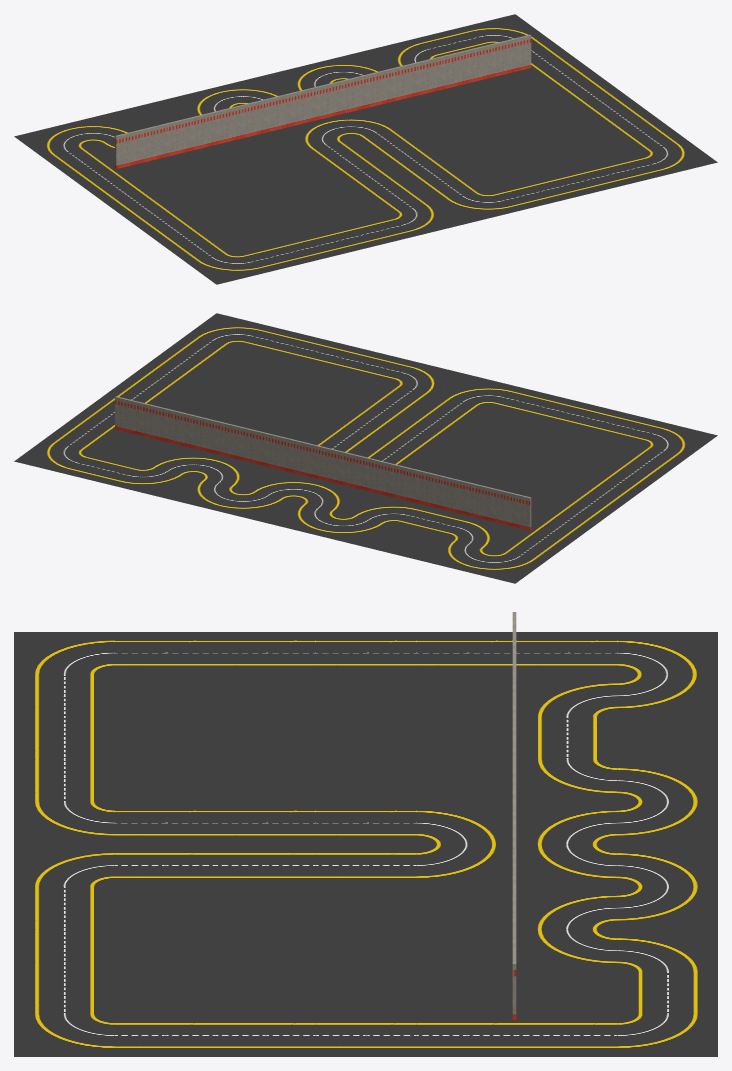
File: track_wall.dae
The picture shows the model from 3 angles, top to bottom: view 1: azimuth 30°, elevation 25°; view 2: azimuth 150°, elevation 25°; view 3: azimuth 270°, elevation 25°; orthographic projection. The views are drawn at different scales.
Visible parts, largest first — view 1: Plane, Wall; view 2: Plane, Wall; view 3: Plane, Wall.
Part boxes in pixels (<box>): Plane: <box>14,14,717,284</box>; Wall: <box>115,34,531,169</box>; Plane: <box>14,313,717,583</box>; Wall: <box>115,396,531,530</box>; Plane: <box>14,632,717,1056</box>; Wall: <box>512,612,516,1020</box>.
Size of the model in its own units: 40 by 28 by 2.5.
Materials: 2 (2 with a texture image).
